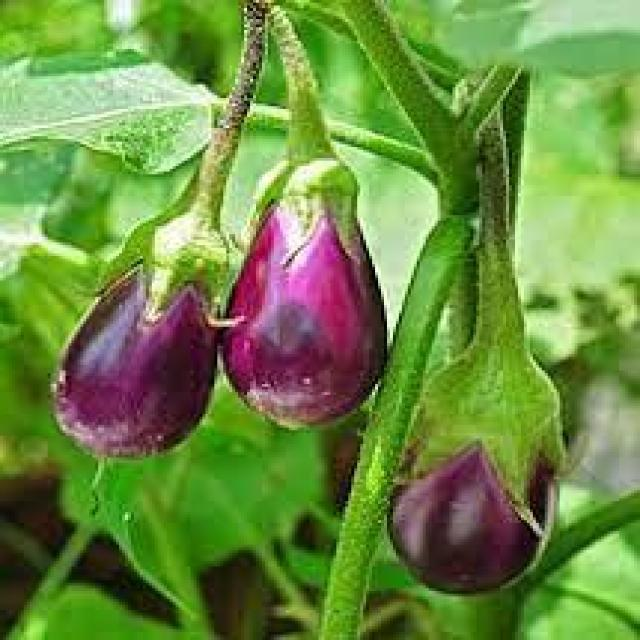eggplant: (388, 74, 586, 597), (51, 0, 265, 459), (221, 3, 387, 429)
